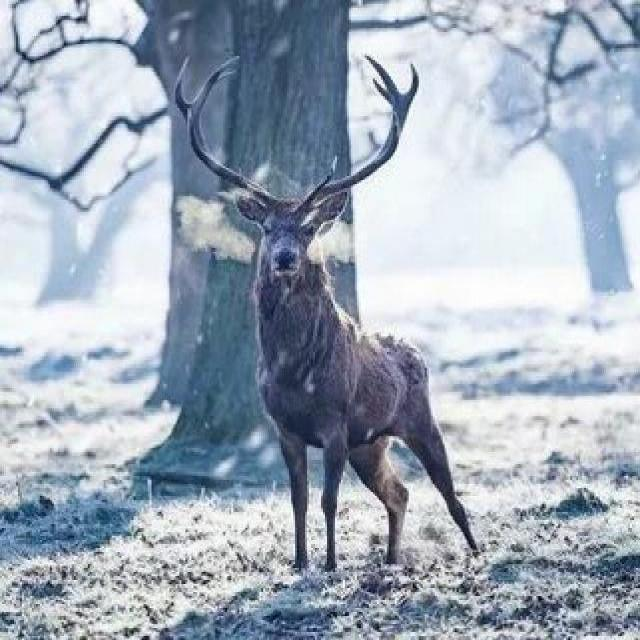deer: (167, 65, 495, 571)
